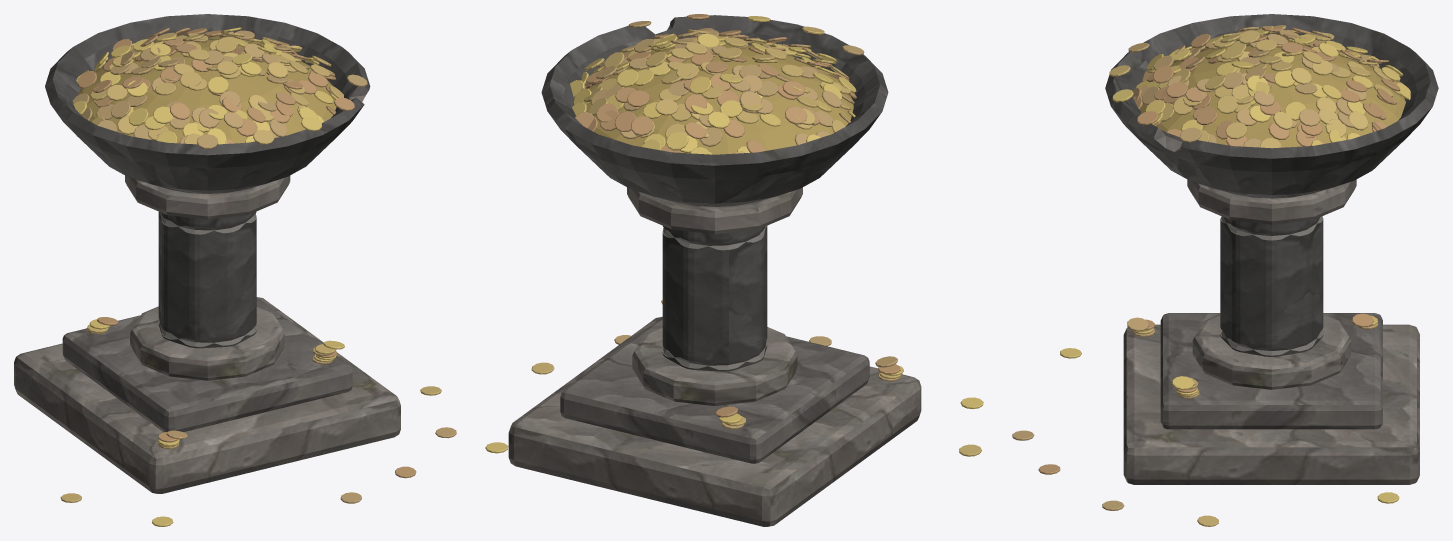
The model's file is offering_bowl_coins.glb.
3 views of the same model, side by side, from view 1: azimuth 30°, elevation 25°; view 2: azimuth 150°, elevation 25°; view 3: azimuth 270°, elevation 25° (orthographic). The views are drawn at different scales.
Visible parts, largest first — view 1: model; view 2: model; view 3: model.
Part boxes in pixels (bbox=[...]): model: bbox=[14, 14, 456, 526]; model: bbox=[485, 14, 983, 526]; model: bbox=[1012, 14, 1438, 526].
Size of the model in its own units: 0.8917 by 0.7886 by 0.8054.
9 materials, 3 textured.
